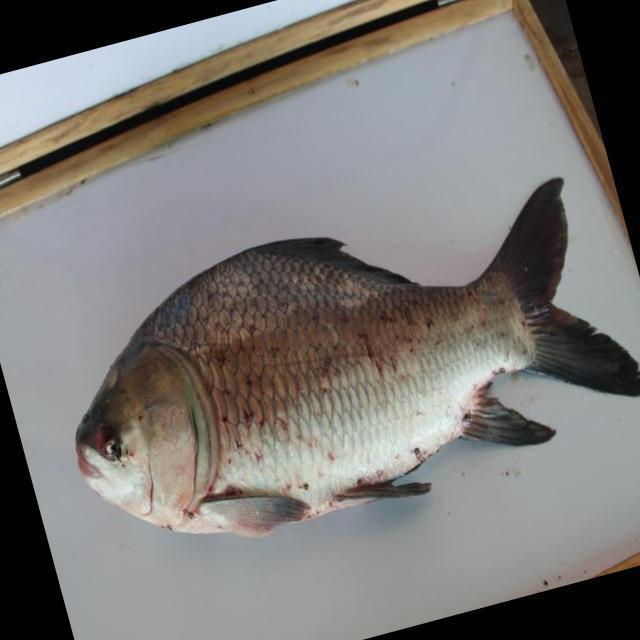Indian Carp: (58, 178, 640, 542)
